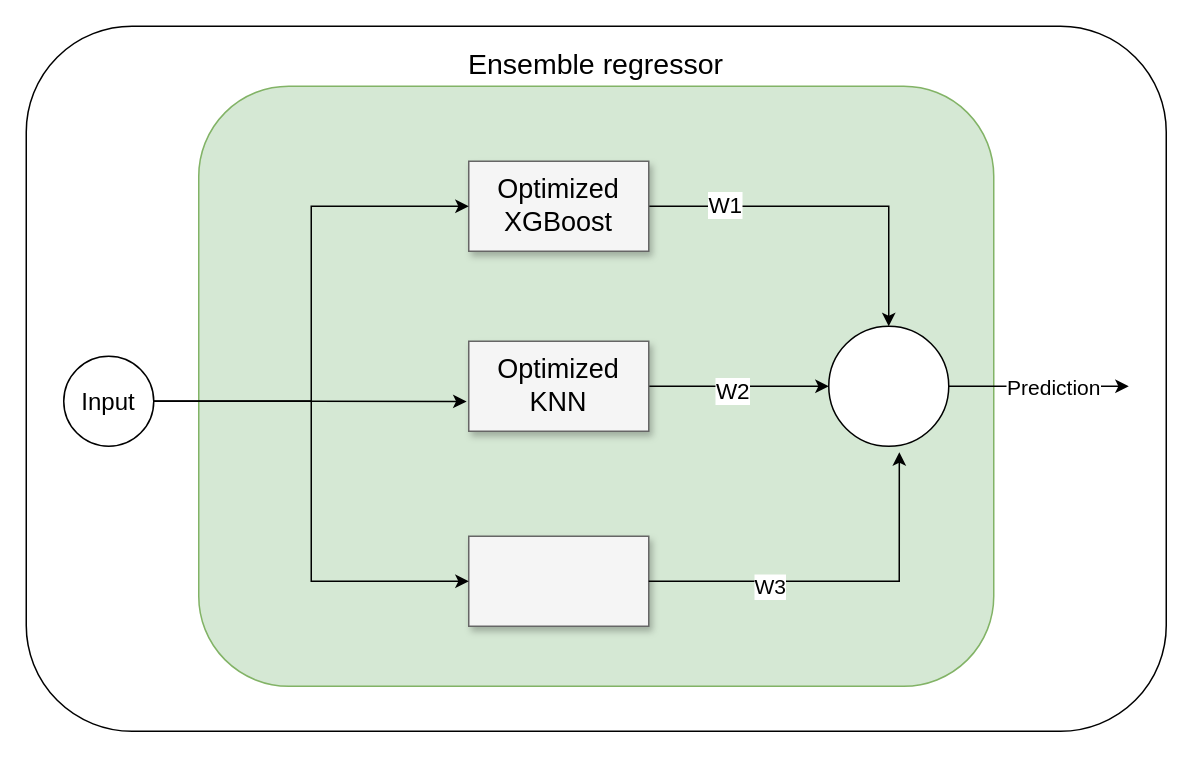
The diagram is 1193 pixels wide and 758 high, and some of its shapes have lost their labels. Here are the shapes that lost their labels. From the top down, the centre of each, then its label:
At point 888,385: "Weighted average".
At point 559,583: "Optimized ANN".
